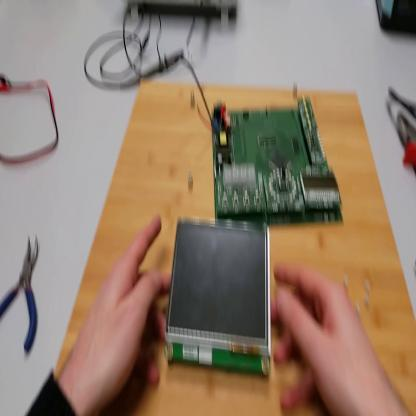hand: (67, 213, 170, 406), (272, 259, 392, 415)
low voltage board: (180, 56, 345, 226)
oscilloscope: (127, 2, 239, 29)
oscilloscope probe tip: (119, 44, 185, 88)
pliers: (2, 234, 39, 356), (390, 90, 416, 172)
welder station: (377, 2, 416, 38)
working area: (55, 78, 416, 415)
